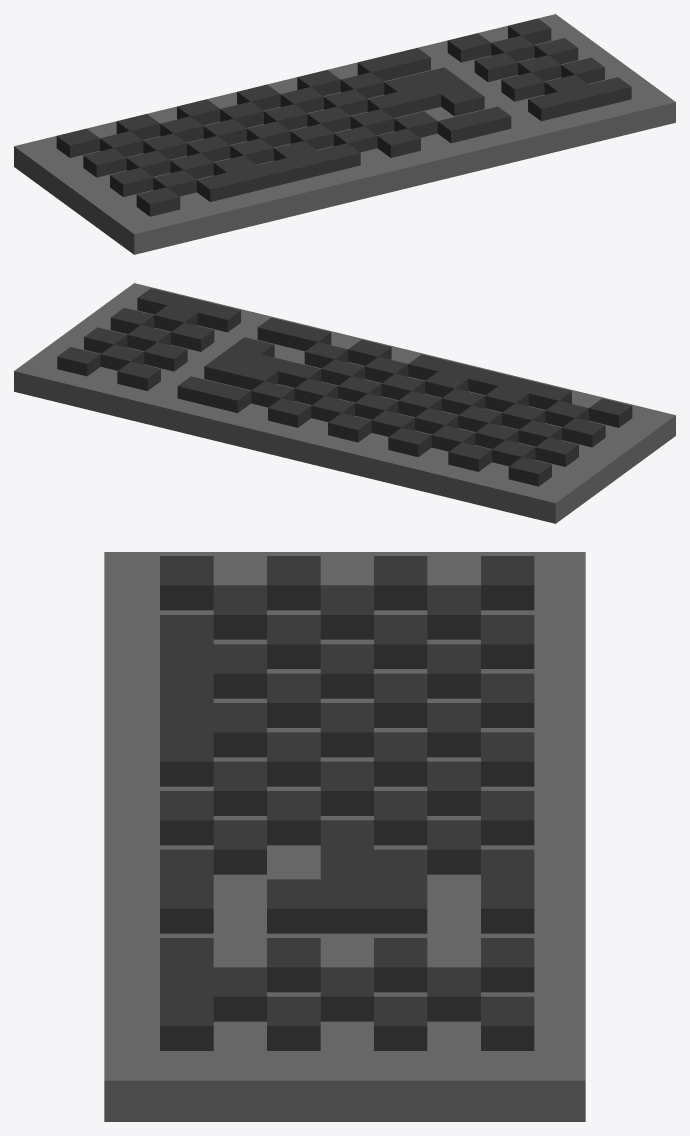
File: H_PC_Keyboard.fbx
3 views of the same model, one above another, from view 1: azimuth 30°, elevation 25°; view 2: azimuth 150°, elevation 25°; view 3: azimuth 270°, elevation 25° (orthographic). The views are drawn at different scales.
Visible parts, largest first — view 1: H_PC_Keyboard; view 2: H_PC_Keyboard; view 3: H_PC_Keyboard.
Boxes of the visible parts, x1,y1,x2,y2 form: H_PC_Keyboard: (14,14,675,254); H_PC_Keyboard: (14,283,675,523); H_PC_Keyboard: (104,552,585,1121).
Bounding box in the file's own units: 260 × 100 × 15.2.
